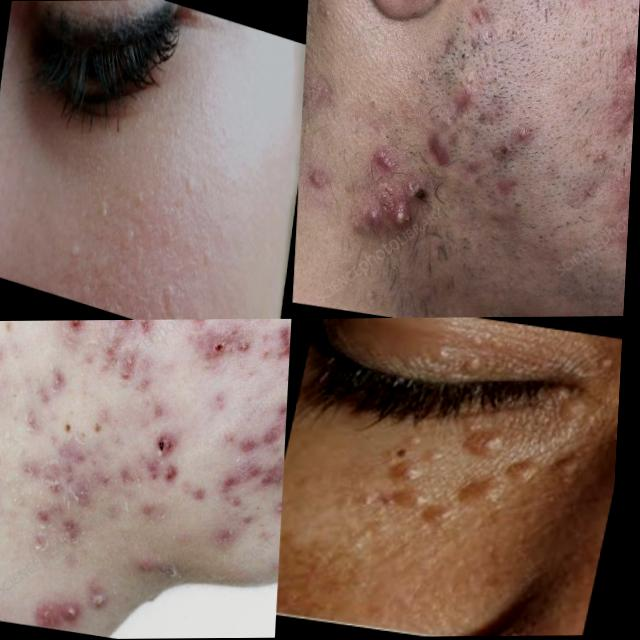7: (66, 234, 87, 266)
blackheads: (374, 367, 618, 547), (74, 319, 164, 405), (41, 434, 113, 509), (210, 445, 289, 507), (145, 420, 208, 496), (233, 384, 291, 459), (259, 318, 294, 386), (421, 122, 457, 175), (55, 595, 103, 634)
dark spot: (372, 143, 408, 180), (622, 69, 637, 102)
pustules: (366, 181, 451, 264)
